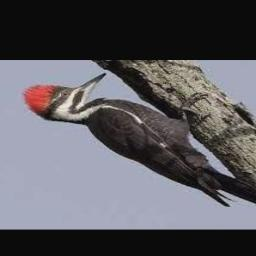Woodpecker: (23, 73, 256, 217)
